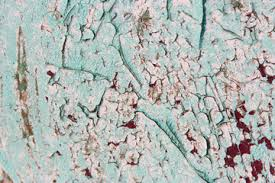rust: (218, 134, 274, 182), (232, 99, 259, 134), (250, 57, 275, 86), (121, 117, 141, 131)
